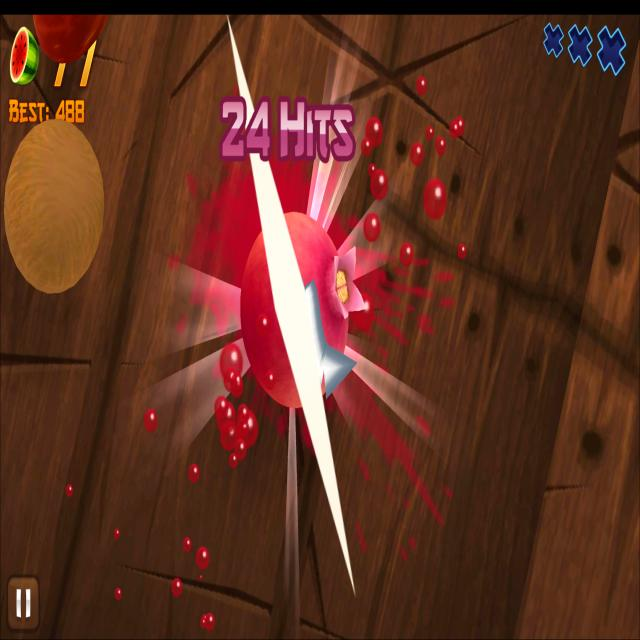fruit: (240, 210, 350, 407), (4, 119, 105, 294), (30, 14, 109, 65)
